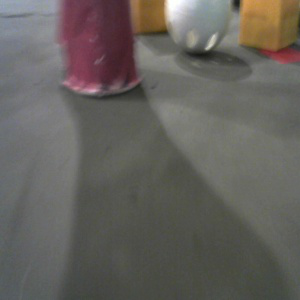middle: (58, 1, 143, 97)
